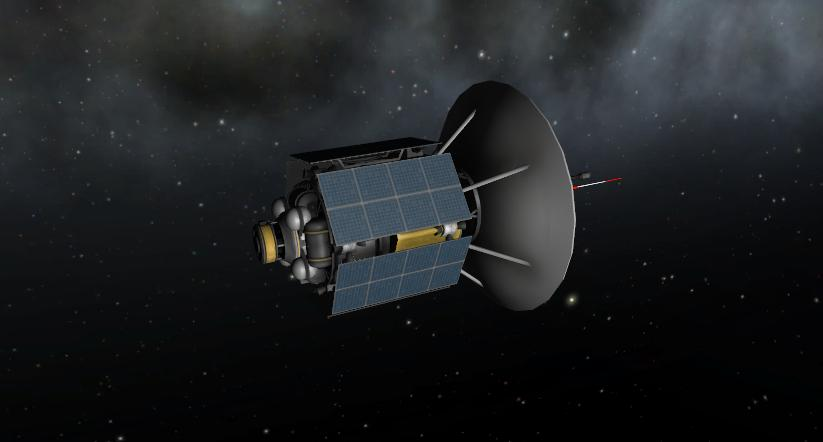antenna: (442, 74, 625, 309)
body: (270, 171, 473, 300)
solar: (314, 152, 473, 250), (328, 236, 472, 319), (286, 135, 444, 167)
thruster: (312, 284, 328, 300), (299, 167, 313, 181), (456, 219, 469, 232), (330, 243, 342, 256)
